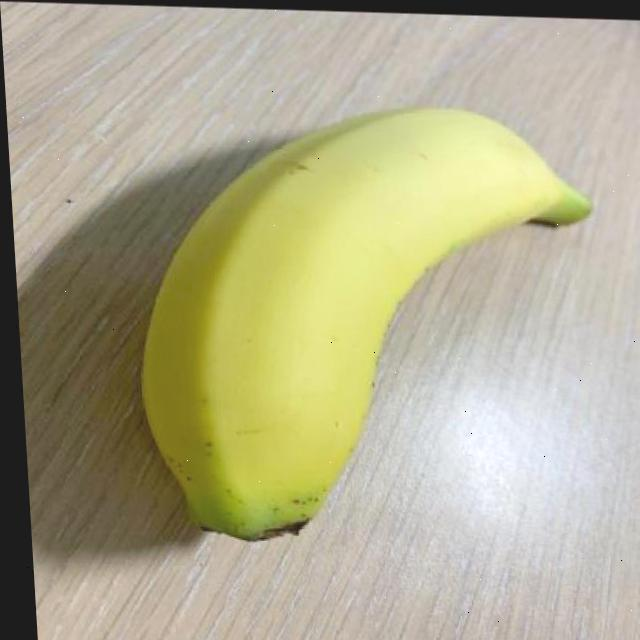banana: (110, 88, 626, 559)
